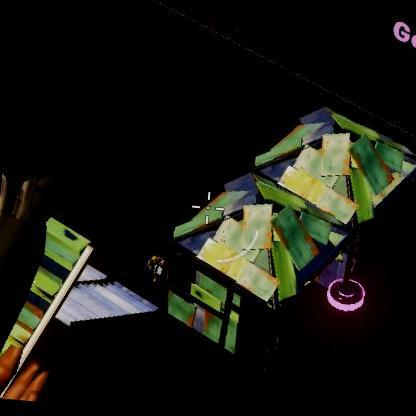person: (146, 253, 168, 287)
